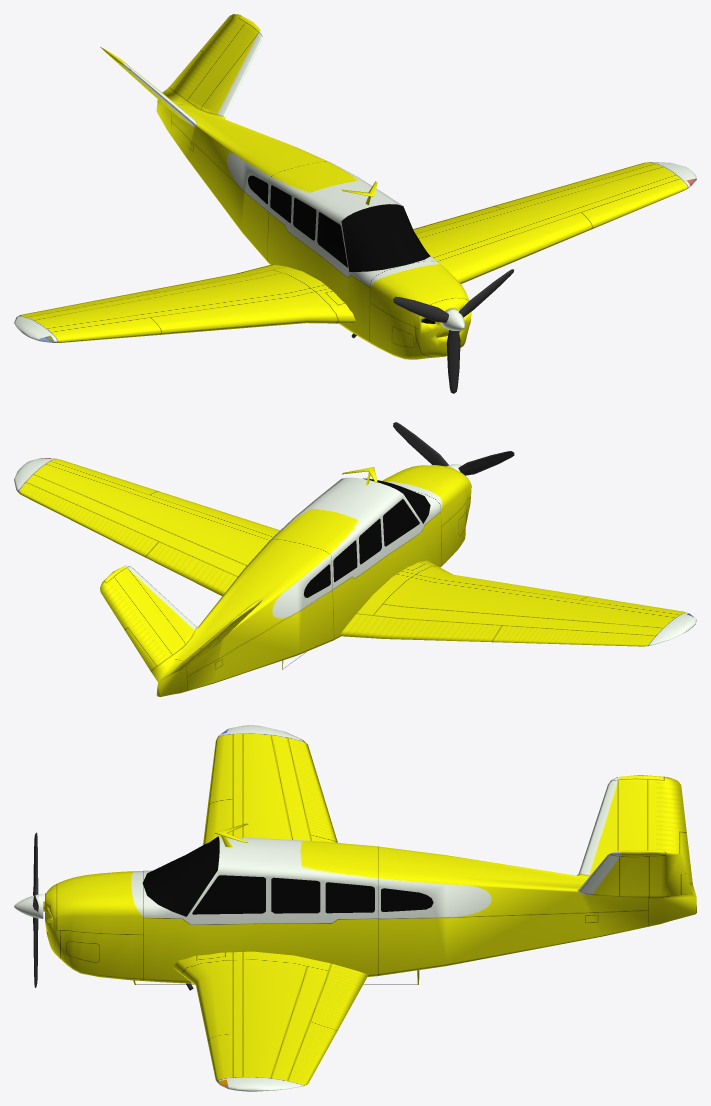
Rendered from airplane2.obj.
3 views of the same model, one above another, from view 1: azimuth 30°, elevation 25°; view 2: azimuth 150°, elevation 25°; view 3: azimuth 270°, elevation 25° (orthographic). The views are drawn at different scales.
Parts seen in each view (by area): view 1: aircraft, window, propeller; view 2: aircraft, window, propeller; view 3: aircraft, window, propeller.
Part boxes in pixels (bbox=[...]): aircraft: bbox=[14, 14, 696, 359]; window: bbox=[248, 175, 430, 271]; propeller: bbox=[393, 269, 513, 393]; aircraft: bbox=[14, 458, 696, 696]; window: bbox=[303, 478, 430, 597]; propeller: bbox=[393, 422, 514, 475]; aircraft: bbox=[43, 725, 696, 1091]; window: bbox=[142, 836, 433, 916]; propeller: bbox=[14, 832, 43, 987].
Bounding box in the file's own units: 11.72 × 2.63 × 9.29.
Materials: 5 (1 with a texture image).
